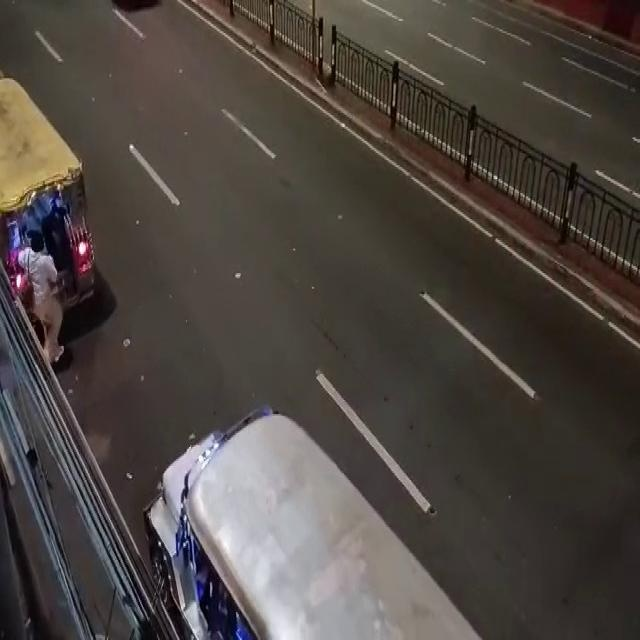jeepney: (90, 379, 446, 640), (0, 61, 114, 374)
